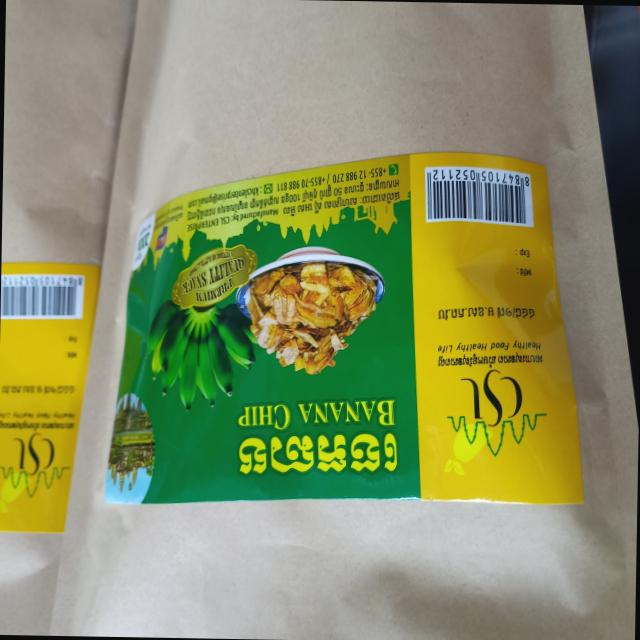1: (434, 349, 546, 371), (436, 302, 536, 325), (281, 196, 356, 218)
157: (185, 172, 401, 223)
853: (274, 165, 382, 193)
863: (430, 166, 531, 189)
Yolov11_80vkh: (227, 427, 402, 487), (362, 189, 399, 206)
